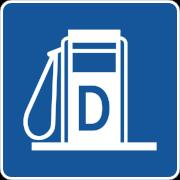Petrol Pump- Gas Station: (12, 10, 166, 161)
